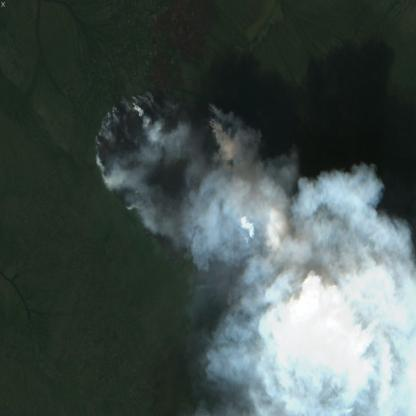fire: (93, 83, 293, 319)
